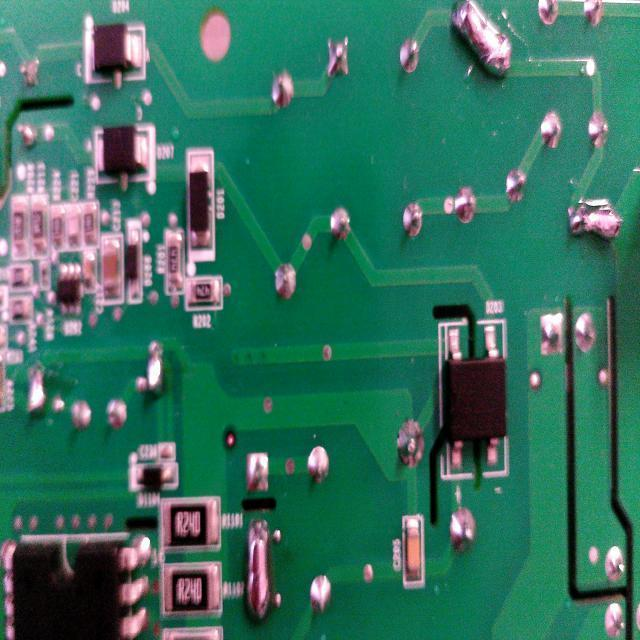Soldering shorted: (440, 2, 518, 84), (565, 192, 627, 251), (244, 512, 272, 624), (21, 363, 52, 415), (144, 333, 166, 399)
